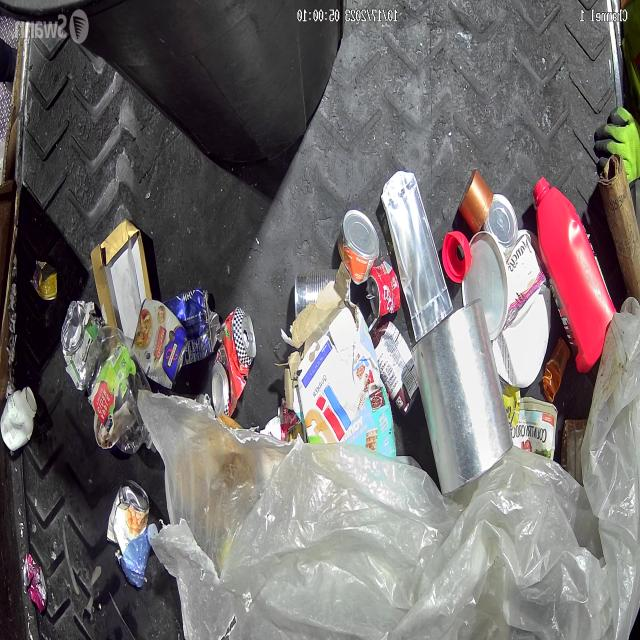can: (131, 298, 190, 388), (211, 306, 257, 419), (61, 297, 104, 395), (339, 208, 384, 290), (106, 478, 151, 557), (294, 266, 351, 320), (368, 264, 404, 324), (23, 551, 48, 613)
non_white_jug: (532, 180, 611, 377)
